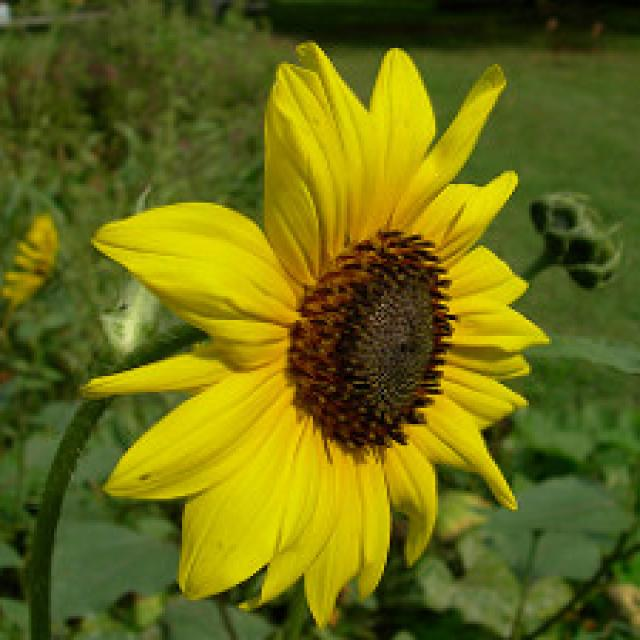sunflower: (76, 37, 550, 635)
